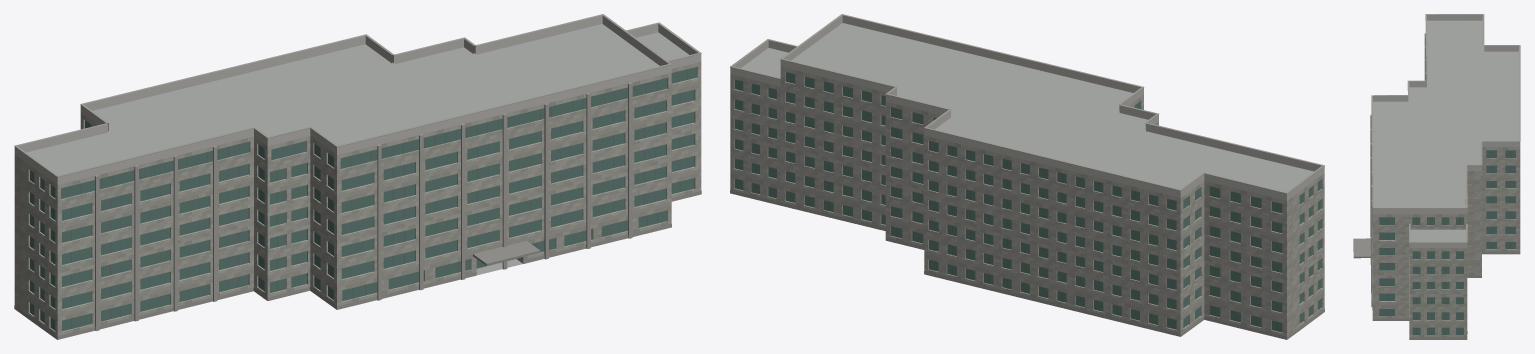
3 renders of one model, left to right at view 1: azimuth 30°, elevation 25°; view 2: azimuth 150°, elevation 25°; view 3: azimuth 270°, elevation 25°, orthographic. The views are drawn at different scales.
Parts seen in each view (by area): view 1: materials__wall, materials__glass, materials__roof, materials__trim, materials__parapet, materials__frame, materials__base, materials__canopy; view 2: materials__wall, materials__roof, materials__glass, materials__parapet, materials__trim, materials__base, materials__frame; view 3: materials__roof, materials__wall, materials__glass, materials__parapet, materials__trim, materials__base, materials__frame, materials__canopy.
Boxes of the visible parts, x1,y1,x2,y2 form: materials__wall: [14, 62, 701, 339]; materials__glass: [30, 67, 696, 331]; materials__roof: [26, 24, 689, 275]; materials__trim: [14, 14, 701, 331]; materials__parapet: [14, 15, 701, 185]; materials__frame: [32, 69, 687, 329]; materials__base: [14, 191, 701, 339]; materials__canopy: [473, 241, 540, 265]; materials__wall: [730, 67, 1324, 339]; materials__roof: [741, 23, 1313, 192]; materials__glass: [734, 72, 1321, 332]; materials__parapet: [730, 15, 1324, 200]; materials__trim: [730, 14, 1324, 193]; materials__base: [730, 190, 1324, 339]; materials__frame: [739, 73, 1319, 330]; materials__roof: [1373, 20, 1518, 241]; materials__wall: [1372, 147, 1520, 337]; materials__glass: [1379, 150, 1515, 335]; materials__parapet: [1372, 14, 1520, 248]; materials__trim: [1370, 14, 1520, 317]; materials__base: [1372, 251, 1520, 339]; materials__frame: [1387, 150, 1510, 334]; materials__canopy: [1353, 238, 1370, 258].
Size of the model in its own units: 108 by 26.6 by 35.78.
9 materials, 1 textured.
